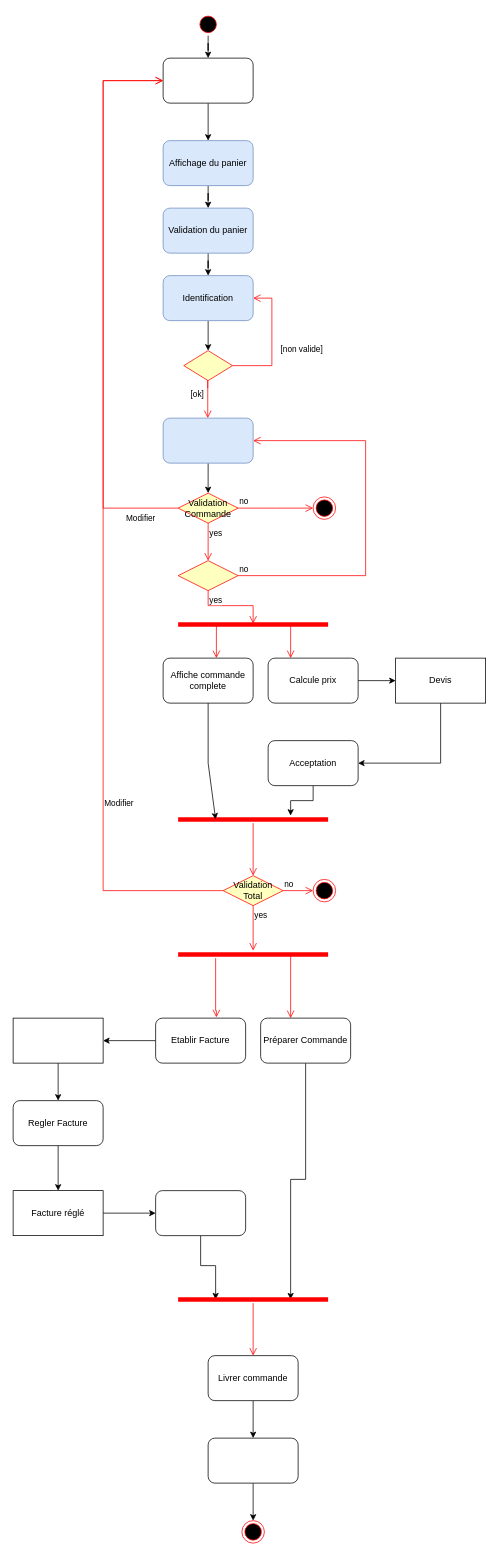
This 499x1556 diagram has some shape labels left out. Each missing label, with the centre of its shape:
"Affiche Commande" belongs at point (207, 440).
"Cloturer dossier" belongs at point (252, 1460).
"Creation Panier" belongs at point (207, 80).
"Facture emise" belongs at point (57, 1040).
"Valider payment" belongs at point (200, 1213).
"Verif Commande" belongs at point (207, 575).
"Verif ID" belongs at point (207, 365).
